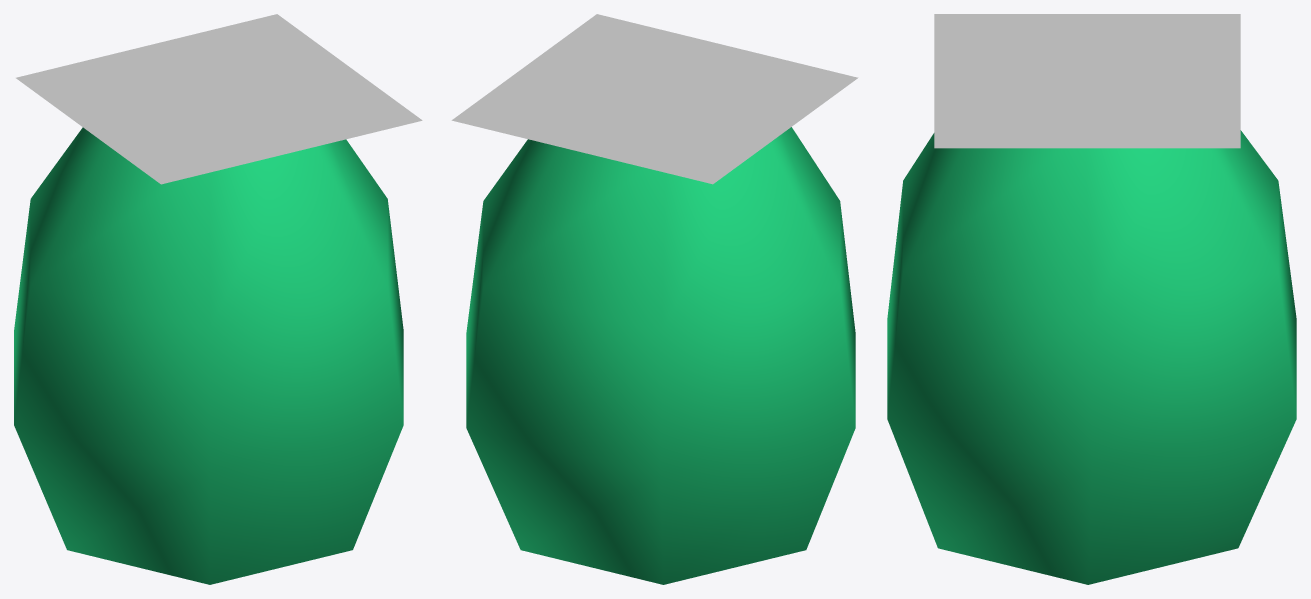
Rendered from Cactus_02.fbx.
The picture shows the model from 3 angles, left to right: view 1: azimuth 30°, elevation 25°; view 2: azimuth 150°, elevation 25°; view 3: azimuth 270°, elevation 25°; orthographic projection. The views are drawn at different scales.
Visible parts, largest first — view 1: Cactus_02, flower_02; view 2: Cactus_02, flower_02; view 3: Cactus_02, flower_02.
Boxes of the visible parts, bbox=[...] form: Cactus_02: bbox=[14, 127, 403, 584]; flower_02: bbox=[16, 14, 422, 184]; Cactus_02: bbox=[466, 127, 855, 584]; flower_02: bbox=[451, 14, 858, 184]; Cactus_02: bbox=[887, 130, 1296, 584]; flower_02: bbox=[934, 14, 1240, 148].
Size of the model in its own units: 33.37 by 33.89 by 28.9.
